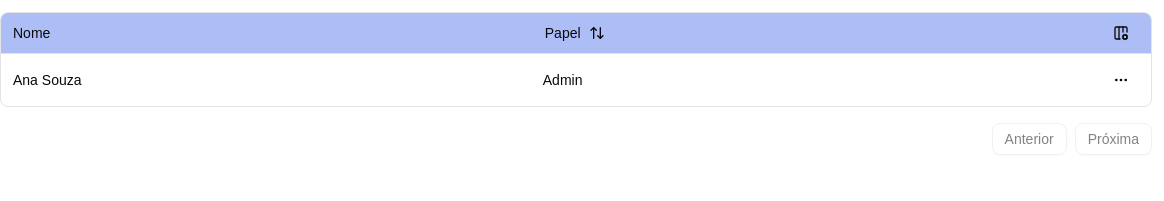
Test: DataTable — visibilidade de colunas › "Mostrar todas" reexibe as colunas e limpa o armazenamento
Click the button named "Configurar colunas" at coordinates (1121, 33), box [1103,15,1139,51]
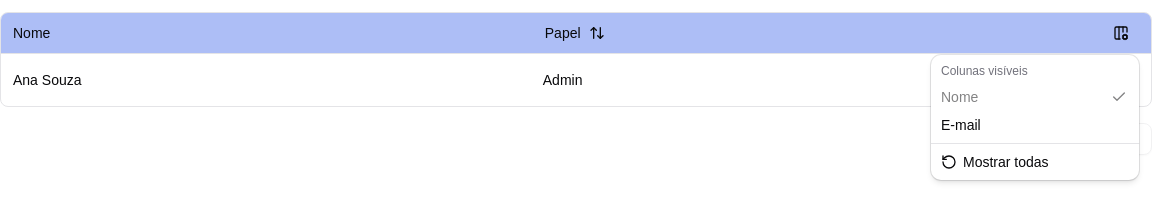
Click the menu item "Mostrar todas" at coordinates (995, 162), box [941,154,1049,170]
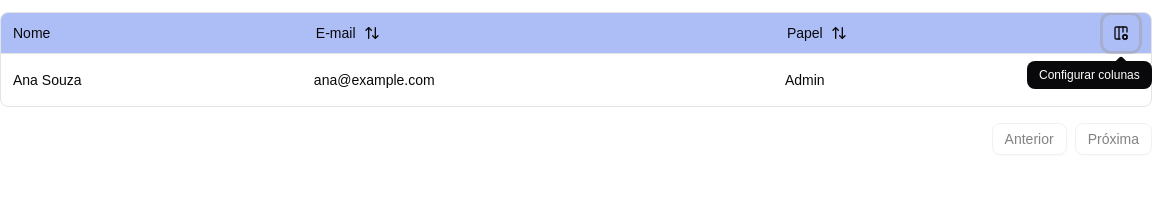
Expected: the text "ana@example.com" is shown, [302,53,773,106]
